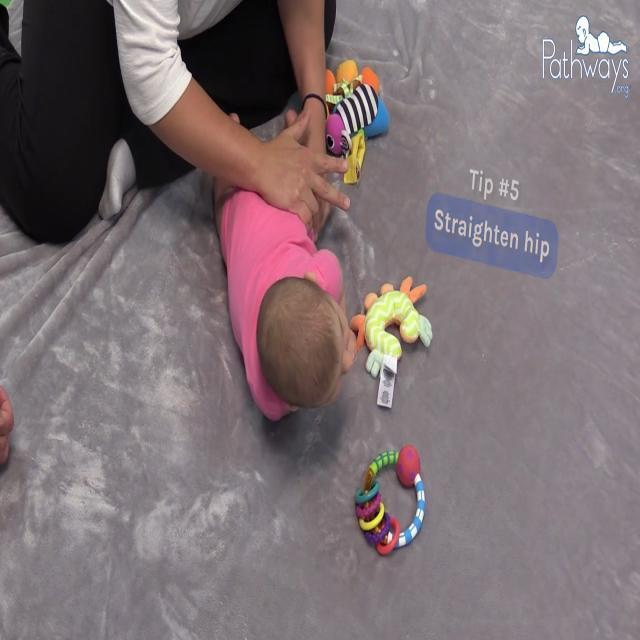baby: (210, 100, 364, 438)
